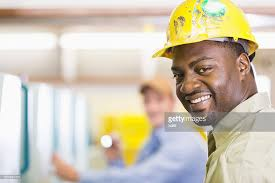Person_wearing_helmet: (155, 0, 257, 90)
